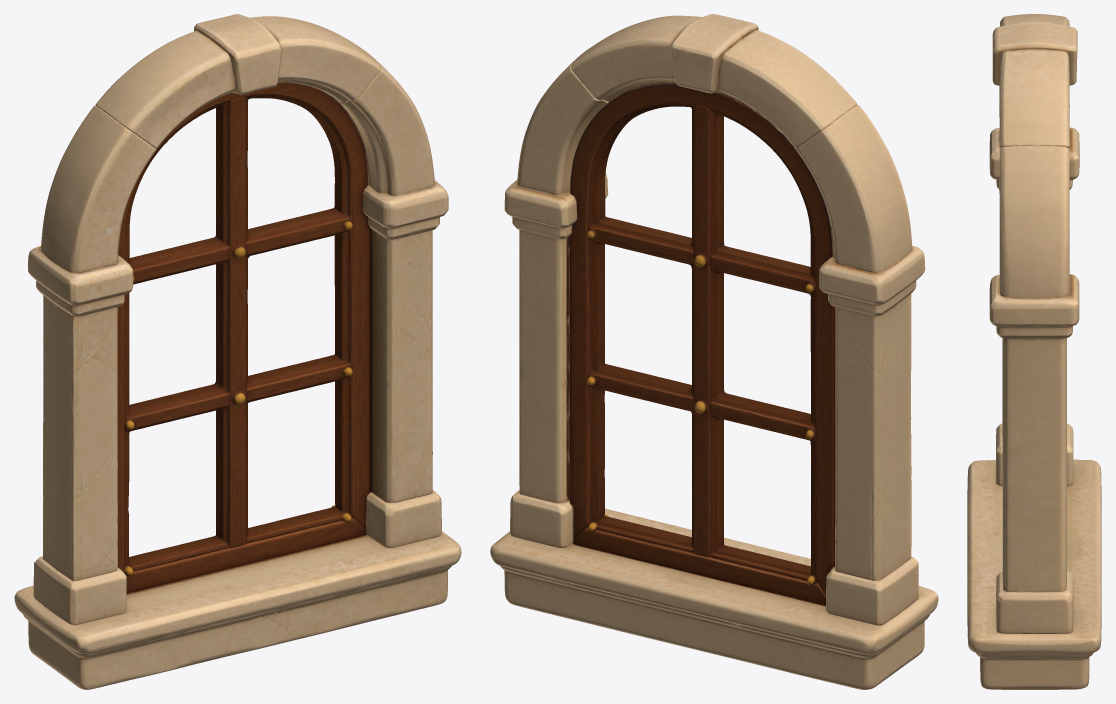
The model's file is 02 fenetre.glb.
3 renders of one model, left to right at view 1: azimuth 30°, elevation 25°; view 2: azimuth 150°, elevation 25°; view 3: azimuth 270°, elevation 25°, orthographic. The views are drawn at different scales.
Parts seen in each view (by area): view 1: tripo_node_ff456396-8933-47d1-838c-2538a6ab5289; view 2: tripo_node_ff456396-8933-47d1-838c-2538a6ab5289; view 3: tripo_node_ff456396-8933-47d1-838c-2538a6ab5289.
Boxes of the visible parts, x1,y1,x2,y2 form: tripo_node_ff456396-8933-47d1-838c-2538a6ab5289: (14, 14, 461, 689); tripo_node_ff456396-8933-47d1-838c-2538a6ab5289: (490, 14, 938, 689); tripo_node_ff456396-8933-47d1-838c-2538a6ab5289: (967, 14, 1101, 689).
Bounding box in the file's own units: 0.6666 × 0.979 × 0.2077.
1 material, 1 textured.
